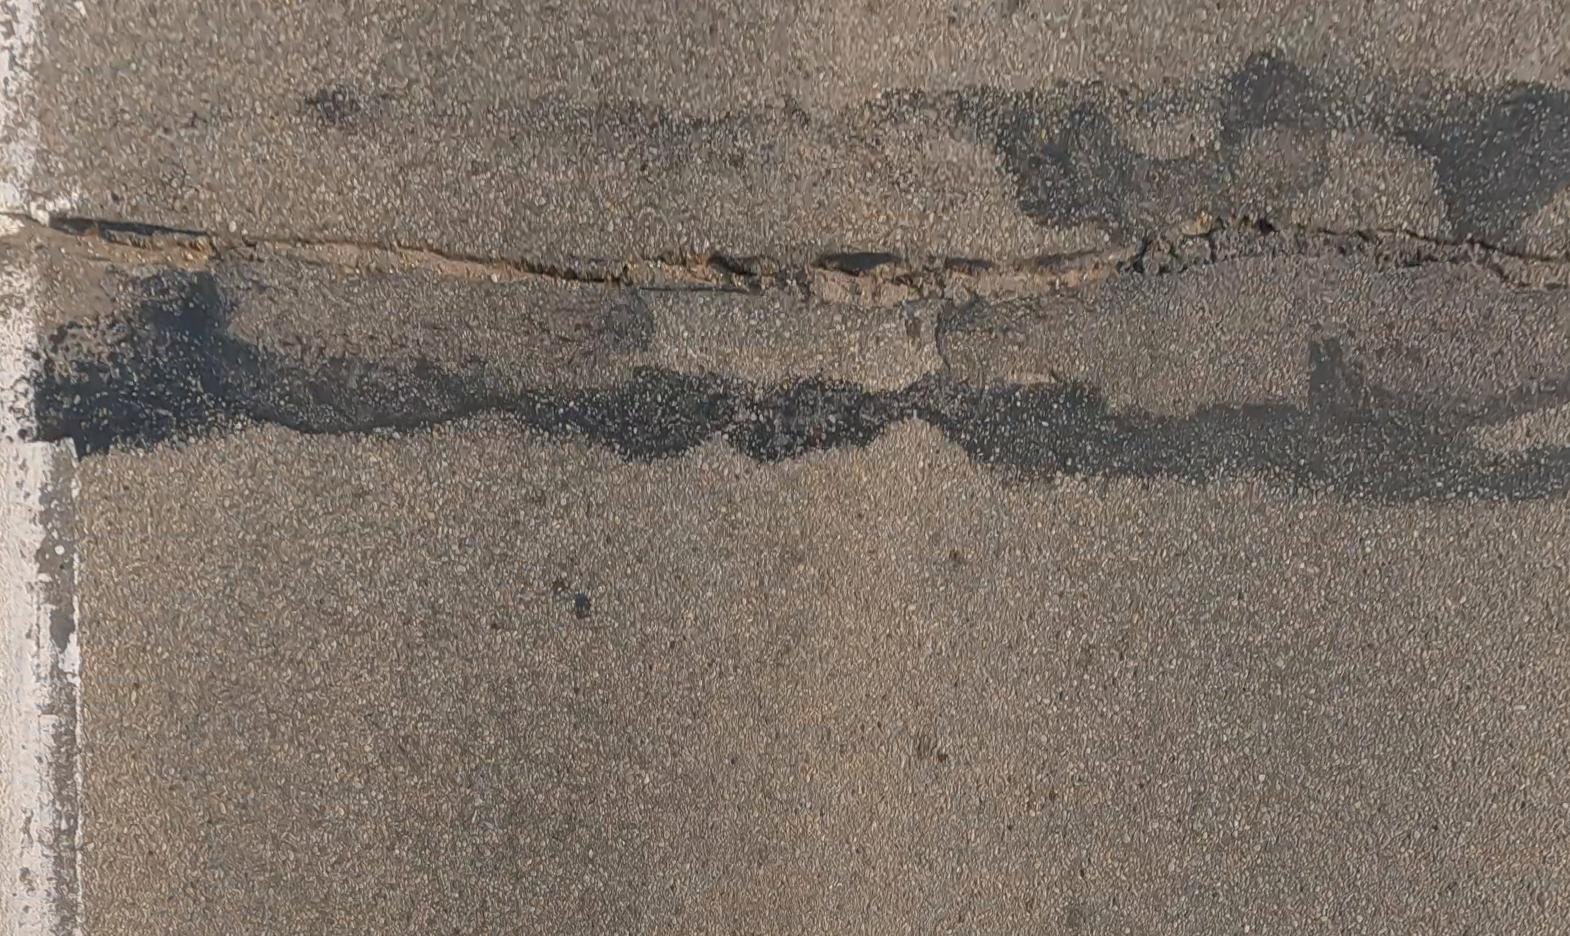pothole_patch_good: (30, 47, 1570, 503)
